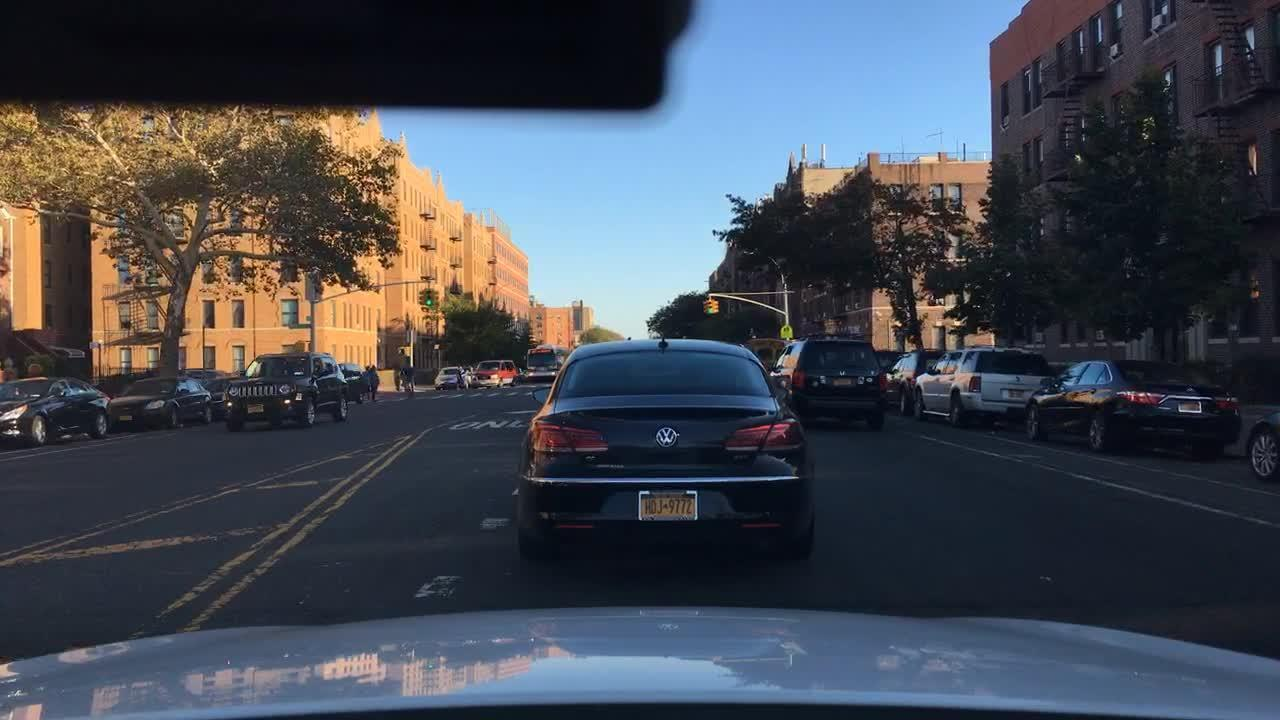Volkswagen: (653, 421, 680, 452)
